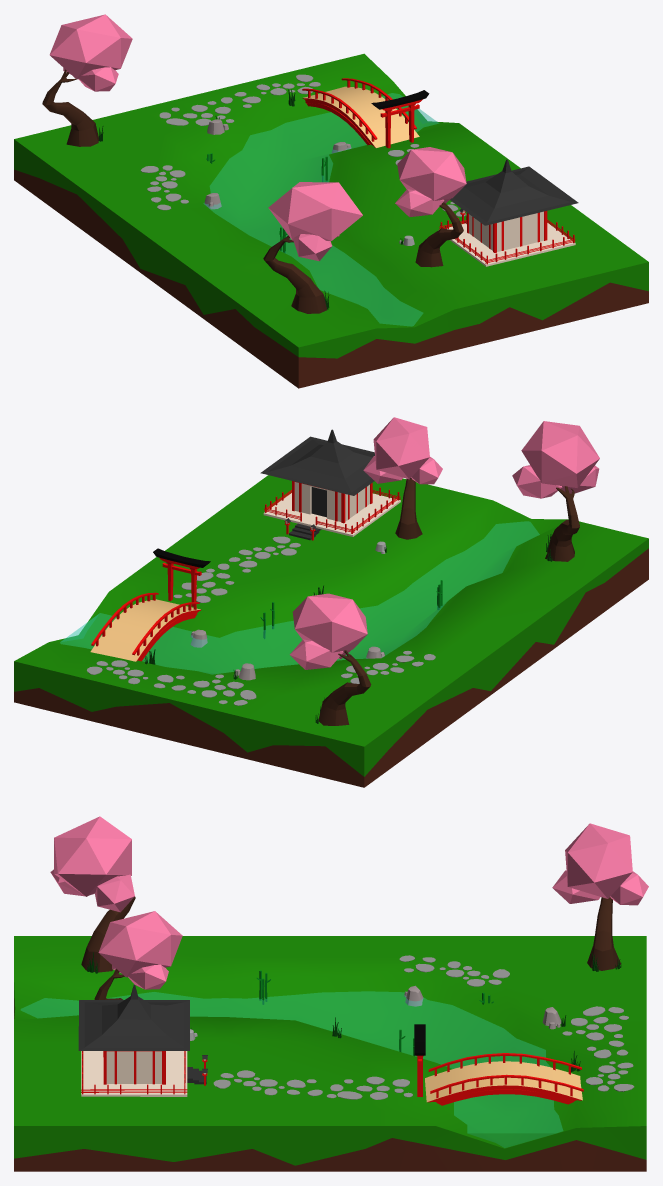
The model's file is sketch.gltf.
The picture shows the model from 3 angles, top to bottom: view 1: azimuth 30°, elevation 25°; view 2: azimuth 150°, elevation 25°; view 3: azimuth 270°, elevation 25°; orthographic projection. The views are drawn at different scales.
Visible parts, largest first — view 1: pCube16, pPlane3, pCube10, pPlatonic2, pPlatonic4, pPlatonic3, pasted__group16_pasted__pCube3, pasted__pCube12, pCube20, pasted__group91_pasted__group82_pasted__pasted__group81_pas, pCube22, pCube21 (+4 smaller); view 2: pCube16, pPlane3, pCube10, pPlatonic2, pPlatonic4, pasted__group16_pasted__pCube3, pPlatonic3, pasted__pCube12, pasted__group91_pasted__group82_pasted__pasted__group81_pas, group91_pasted__group82_pasted__pasted__group81_pasted__pas., pCube22, pCube20 (+5 smaller); view 3: pCube16, pPlane3, pCube10, pasted__group16_pasted__pCube3, pPlatonic2, pPlatonic4, pPlatonic3, pasted__pCube12, pasted__group91_pasted__group82_pasted__pasted__group81_pas, group91_pasted__group82_pasted__pasted__group81_pasted__pas., pCube22, pCube20 (+4 smaller).
Part boxes in pixels (box(x1,y1,x2,y2)): pCube16: box(14, 53, 648, 388); pPlane3: box(204, 93, 439, 326); pCube10: box(450, 159, 578, 251); pPlatonic2: box(268, 182, 362, 261); pPlatonic4: box(49, 14, 132, 91); pPlatonic3: box(395, 147, 466, 217); pasted__group16_pasted__pCube3: box(302, 78, 419, 147); pasted__pCube12: box(447, 223, 575, 266); pCube20: box(263, 235, 326, 313); pasted__group91_pasted__group82_pasted__pasted__group81_pas: box(159, 74, 320, 125); pCube22: box(42, 69, 98, 146); pCube21: box(415, 202, 463, 267); pCube16: box(14, 475, 648, 787); pPlane3: box(60, 521, 539, 674); pCube10: box(260, 429, 374, 521); pPlatonic2: box(512, 421, 599, 498); pPlatonic4: box(289, 593, 367, 669); pasted__group16_pasted__pCube3: box(90, 592, 201, 661); pPlatonic3: box(363, 417, 442, 484); pasted__pCube12: box(263, 493, 400, 536); pasted__group91_pasted__group82_pasted__pasted__group81_pas: box(87, 660, 256, 705); group91_pasted__group82_pasted__pasted__group81_pasted__pas.: box(173, 536, 300, 602); pCube22: box(318, 650, 371, 725); pCube20: box(545, 486, 579, 561); pCube16: box(14, 936, 646, 1171); pPlane3: box(21, 991, 562, 1147); pCube10: box(78, 984, 189, 1083); pasted__group16_pasted__pCube3: box(425, 1053, 583, 1105); pPlatonic2: box(50, 816, 134, 912); pPlatonic4: box(552, 823, 648, 905); pPlatonic3: box(98, 911, 182, 989); pasted__pCube12: box(81, 1051, 187, 1096); pasted__group91_pasted__group82_pasted__pasted__group81_pas: box(562, 1006, 634, 1091); group91_pasted__group82_pasted__pasted__group81_pasted__pas.: box(213, 1070, 412, 1099); pCube22: box(587, 897, 620, 970); pCube20: box(81, 896, 135, 972).
Bounding box in the file's own units: 151 × 67.66 × 213.
